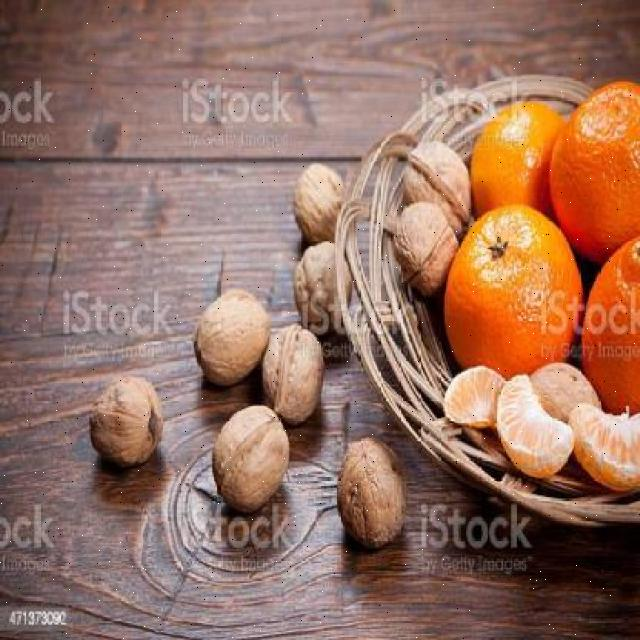Orange: (442, 202, 584, 378), (548, 78, 638, 260), (468, 97, 564, 215), (580, 227, 638, 418)
